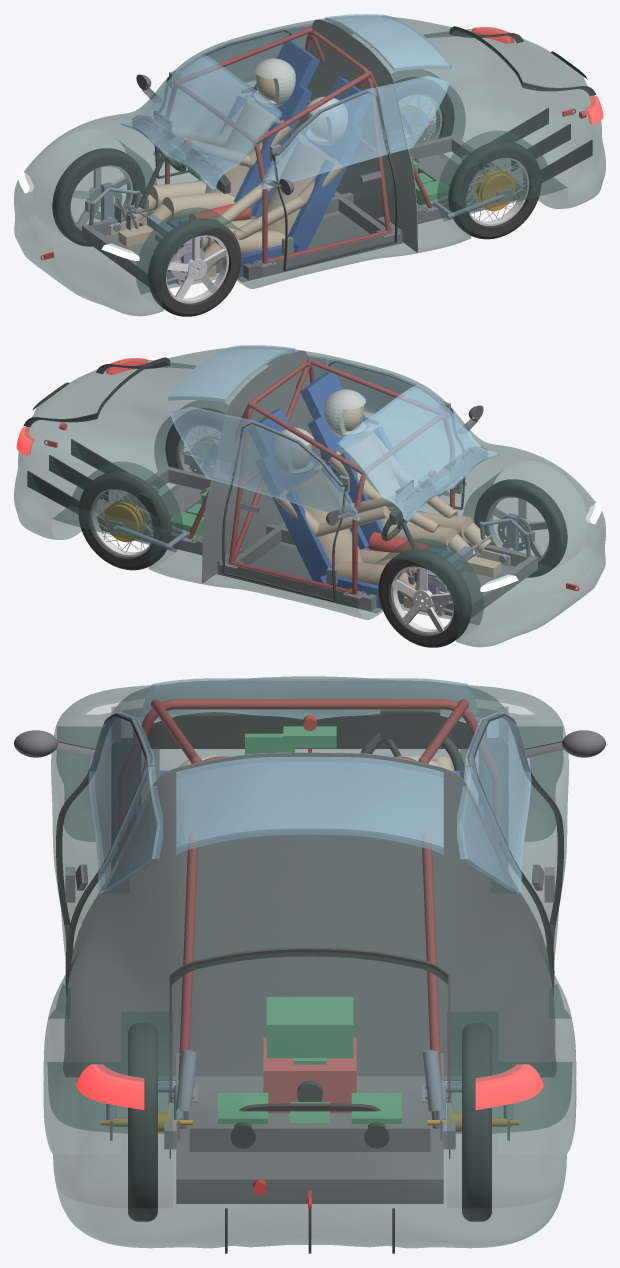
File: arac_tam.glb
3 renders of one model, top to bottom at view 1: azimuth 30°, elevation 25°; view 2: azimuth 150°, elevation 25°; view 3: azimuth 270°, elevation 25°, orthographic. The views are drawn at different scales.
Visible parts, largest first — view 1: govde, cam, manken, lastik, metal, sasi, koltuk, kafes, jant, derz, siyah, suspansiyon (+10 smaller); view 2: govde, cam, manken, lastik, metal, sasi, koltuk, kafes, jant, derz, siyah, suspansiyon (+9 smaller); view 3: govde, metal, cam, sasi, kafes, elektrik, derz, lastik, siyah, stop, batarya, suspansiyon (+4 smaller).
Boxes of the visible parts, x1,y1,x2,y2 form: govde: (14, 15, 605, 316); cam: (120, 14, 451, 191); manken: (103, 76, 344, 284); lastik: (52, 77, 541, 316); metal: (157, 19, 438, 268); sasi: (82, 111, 522, 286); koltuk: (167, 40, 371, 277); kafes: (165, 27, 432, 263); jant: (70, 107, 529, 303); derz: (154, 26, 596, 271); siyah: (132, 111, 449, 208); suspansiyon: (92, 109, 512, 283); govde: (14, 346, 605, 647); cam: (168, 345, 499, 522); manken: (275, 407, 516, 615); lastik: (78, 408, 567, 647); metal: (181, 350, 462, 599); sasi: (97, 442, 537, 617); koltuk: (248, 371, 452, 608); kafes: (187, 358, 454, 594); jant: (90, 438, 549, 634); derz: (23, 357, 465, 602); siyah: (170, 446, 487, 549); suspansiyon: (107, 440, 527, 614); govde: (43, 676, 576, 1248); metal: (63, 706, 556, 1102); cam: (88, 678, 531, 893); sasi: (158, 1050, 461, 1203); kafes: (118, 699, 501, 1079); elektrik: (218, 719, 401, 1123); derz: (56, 713, 563, 1111); lastik: (128, 1023, 491, 1221); siyah: (133, 709, 486, 1148); stop: (76, 1064, 543, 1110); batarya: (263, 1037, 356, 1113); suspansiyon: (106, 1050, 513, 1140).
Bounding box in the file's own units: 3.55 × 1.22 × 1.77.
